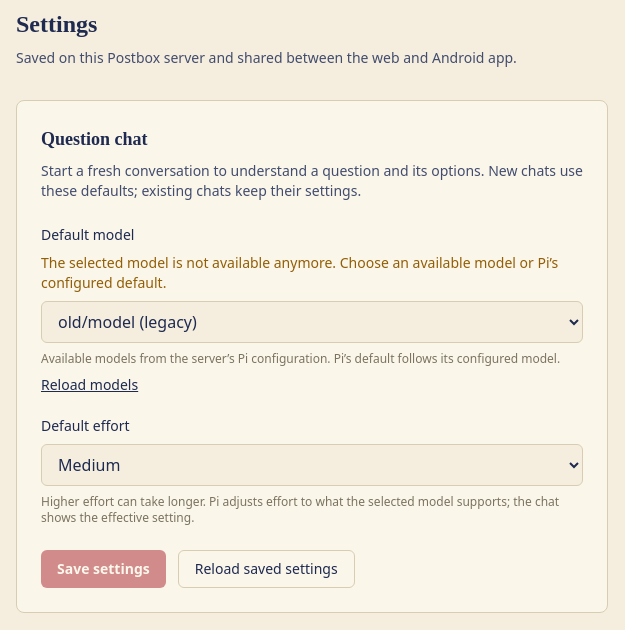
retains an unavailable saved model as a disabled legacy option until replaced
Expected: the text "The selected model is not available anymore" is shown, top-left (41, 253), bottom-right (558, 292)
Select "test/model — test/model" in the dropdown labelled "Default model". click: (312, 322)
box: top-left (41, 301), bottom-right (583, 343)
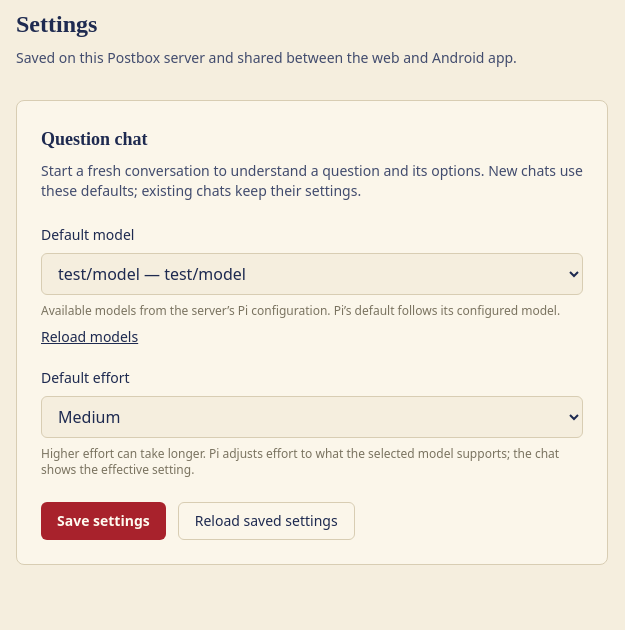
Expected: the text "The selected model is not available anymore" is gone
